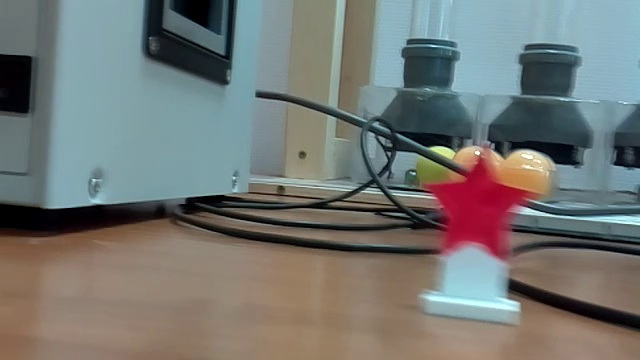star: (408, 145, 547, 329)
